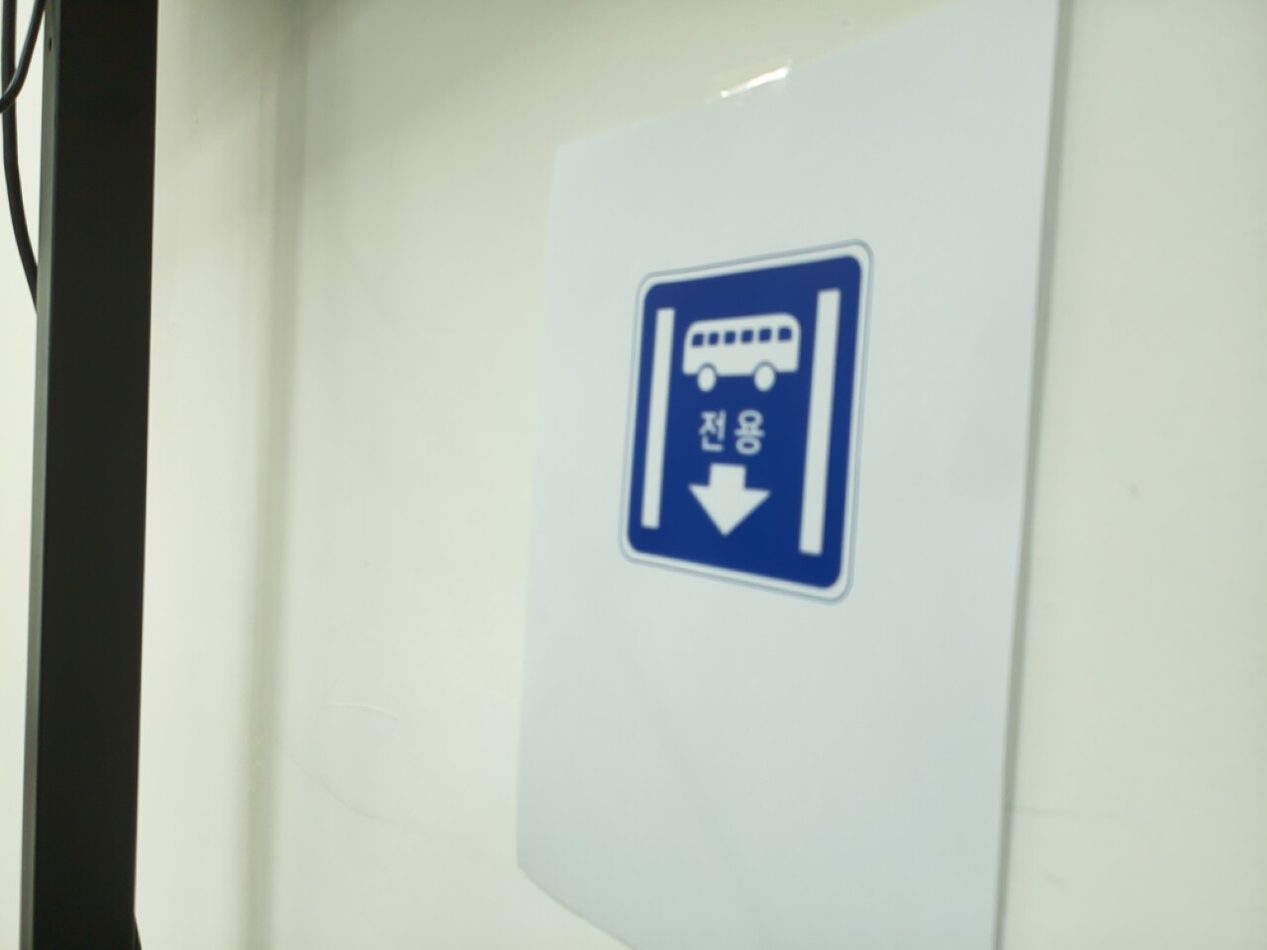bus_only_lane: (619, 245, 869, 598)
